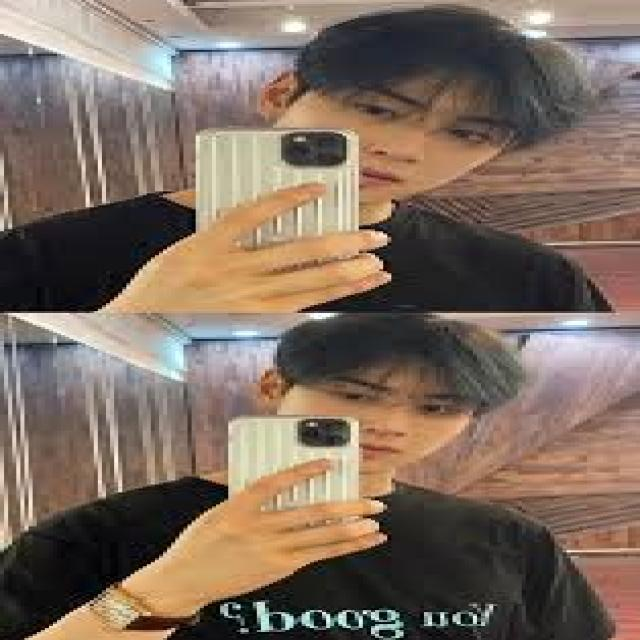Phone: (192, 126, 360, 244), (225, 413, 361, 524)
